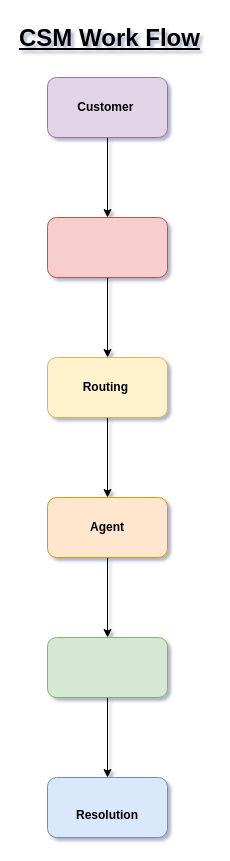
Some shapes in this 230 by 861 pixel diagram are drawn without their labels. The shapes that lost their labels are listed below. From the top down, each one's centre as x and y in pixels, then its label:
At point 107,247: "Case".
At point 107,667: "SLA".
